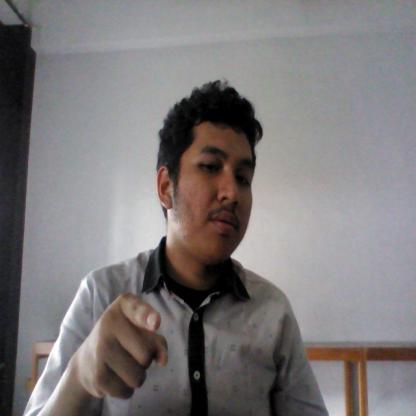Kamu: (58, 284, 177, 406)
